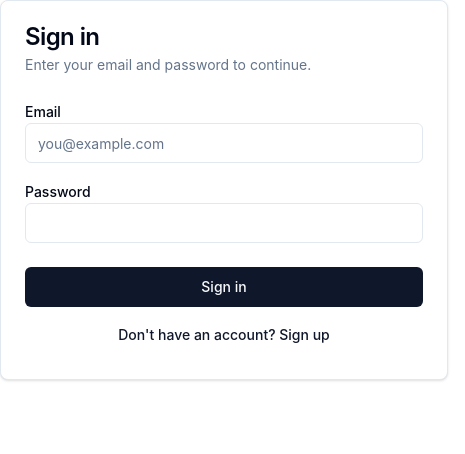
Scenario: SignInForm › shows validation messages for invalid input
Click the button "Sign in": (224, 287) [25,267,423,307]
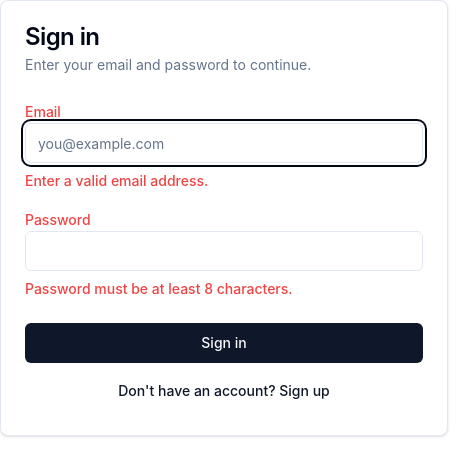
Check: the text "Enter a valid email address." is shown, box [25,172,208,189]
Check: the text "Password must be at least 8 characters." is shown, box [25,280,293,297]
